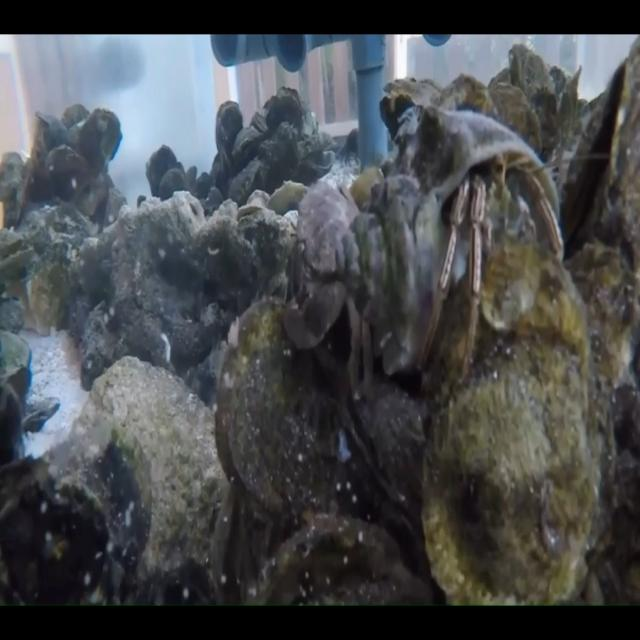Oyster-Closed: (51, 342, 251, 624), (423, 340, 595, 602), (210, 296, 348, 523), (469, 233, 612, 359), (264, 513, 433, 604), (350, 374, 453, 511), (601, 38, 640, 290), (6, 184, 102, 280), (556, 84, 619, 226), (224, 196, 303, 280), (366, 59, 448, 136), (481, 71, 553, 158), (67, 102, 133, 174), (39, 138, 97, 204), (257, 122, 300, 194), (134, 141, 184, 192), (439, 73, 495, 116), (224, 121, 268, 175), (531, 88, 559, 151), (264, 86, 303, 131), (215, 100, 242, 160), (151, 164, 192, 202), (502, 42, 533, 89), (526, 51, 555, 100), (558, 65, 582, 116), (251, 107, 268, 136)
